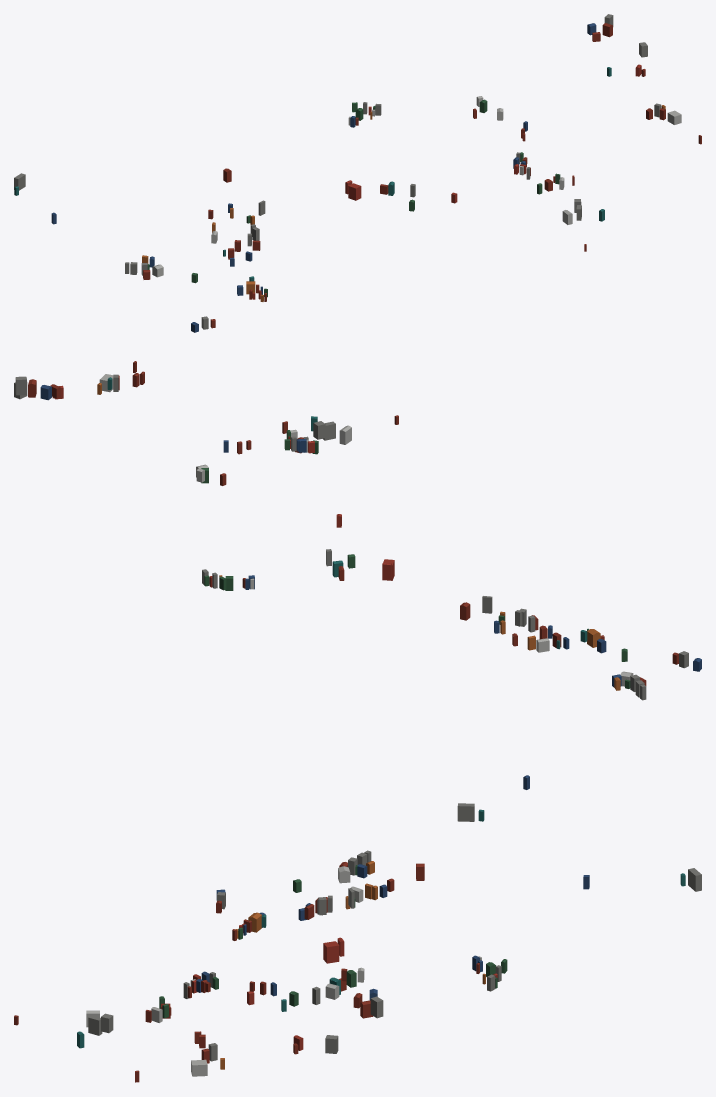
Rendered from near-15-27353-14867.e2eaee68.glb.
3 views of the same model, one above another, from view 1: azimuth 30°, elevation 25°; view 2: azimuth 150°, elevation 25°; view 3: azimuth 270°, elevation 25° (orthographic). The views are drawn at different scales.
Bounding box in the file's own units: 1179 × 347 × 1040.
